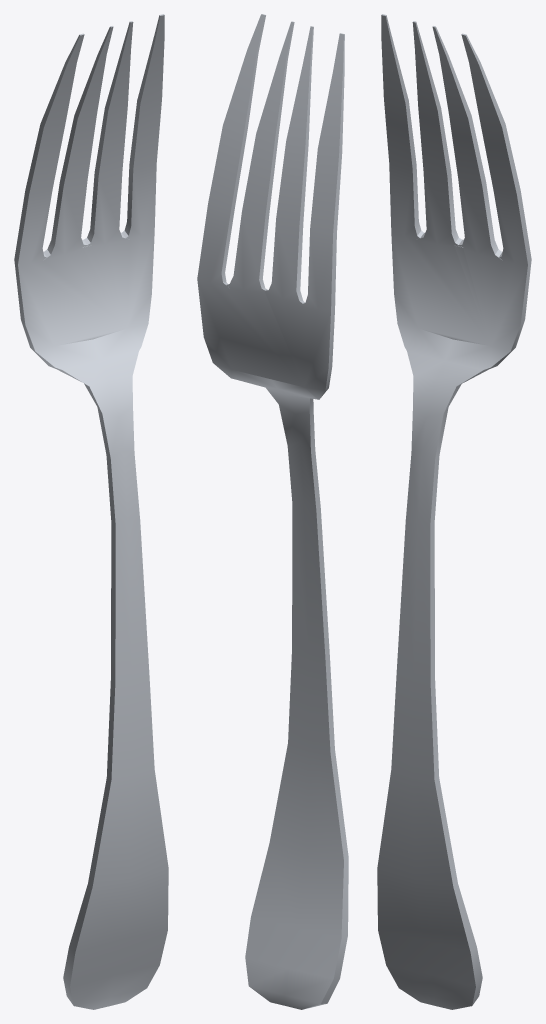
File: utensil_fork_001.glb
The picture shows the model from 3 angles, left to right: view 1: azimuth 30°, elevation 25°; view 2: azimuth 150°, elevation 25°; view 3: azimuth 330°, elevation 25°; orthographic projection.
Visible parts, largest first — view 1: utensil fork.001; view 2: utensil fork.001; view 3: utensil fork.001.
Part boxes in pixels (x1=…): utensil fork.001: x1=14, y1=14, x2=168, y2=1009; utensil fork.001: x1=197, y1=14, x2=348, y2=1009; utensil fork.001: x1=377, y1=14, x2=531, y2=1009.
Bounding box in the file's own units: 0.703 × 4.87 × 0.451.
1 material, 1 textured.
